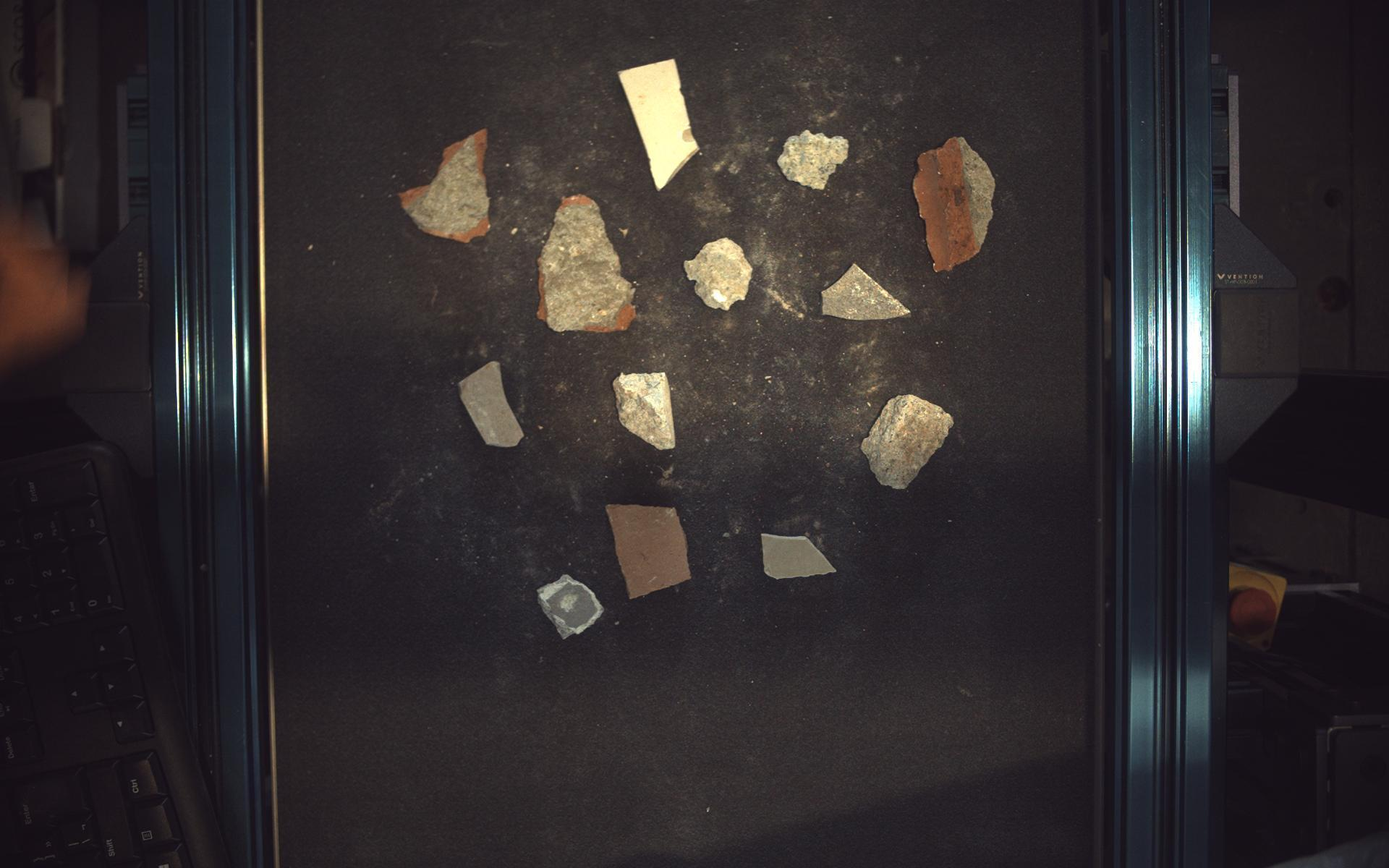brick: (538, 194, 636, 332), (915, 136, 996, 271), (399, 128, 490, 242), (606, 505, 692, 600)
concrete: (863, 394, 956, 490), (685, 237, 754, 310), (613, 373, 676, 450), (779, 129, 850, 189)
tile: (619, 58, 700, 190), (459, 361, 524, 447), (823, 263, 912, 320), (538, 574, 604, 639), (764, 534, 838, 579)
